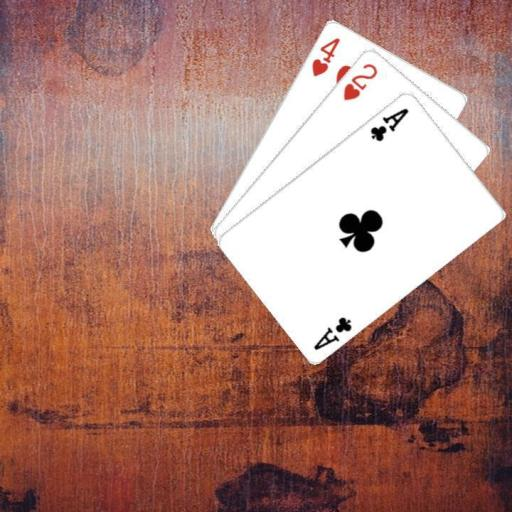card-corner: (340, 59, 379, 102), (367, 104, 410, 143), (310, 313, 353, 351), (308, 34, 341, 78)
